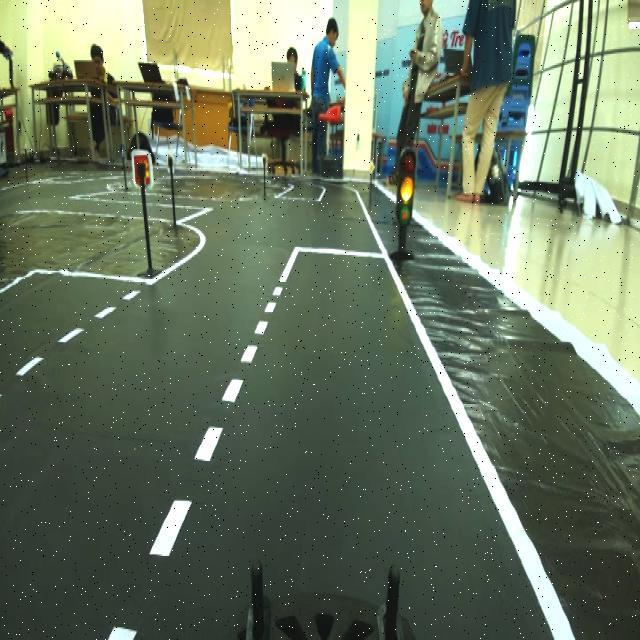trafficlight: (382, 133, 422, 276)
